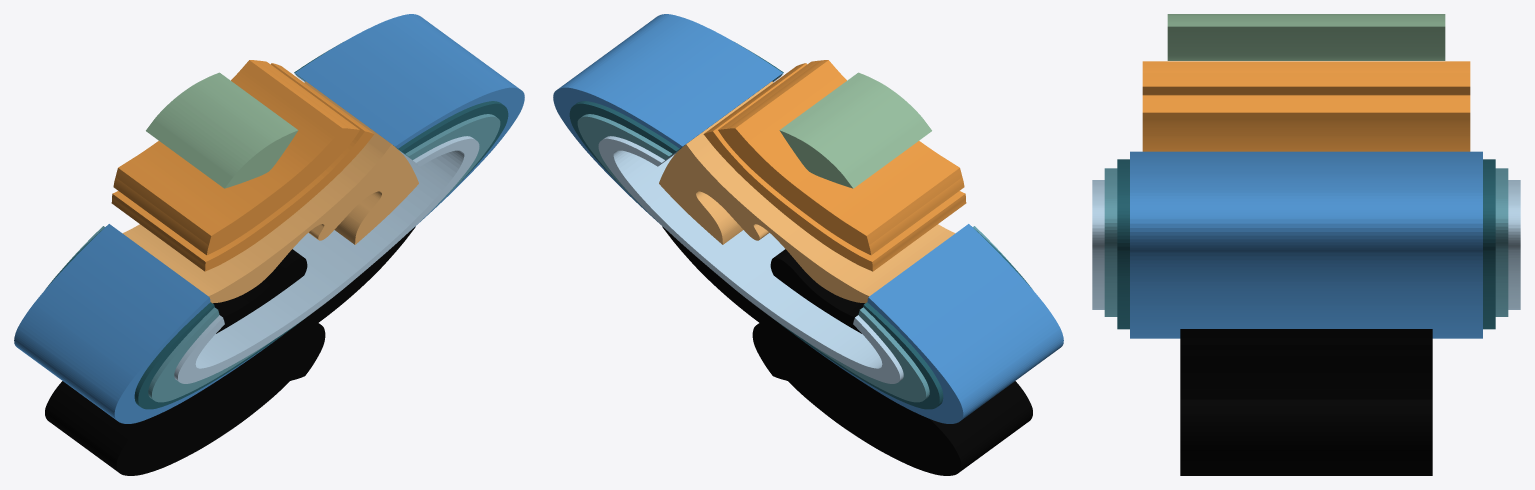
The picture shows the model from 3 angles, left to right: view 1: azimuth 30°, elevation 25°; view 2: azimuth 150°, elevation 25°; view 3: azimuth 270°, elevation 25°; orthographic projection. The views are drawn at different scales.
Parts seen in each view (by area): view 1: U+1FA90_layer04_obj00, U+1FA90_layer03_obj01, U+1FA90_layer07_obj00, U+1FA90_layer00_obj00, U+1FA90_layer02_obj00, U+1FA90_layer01_obj00, U+1FA90_layer03_obj00, U+1FA90_layer06_obj00, U+1FA90_layer05_obj00, U+1FA90_layer00_obj03, U+1FA90_layer00_obj02, U+1FA90_layer00_obj01; view 2: U+1FA90_layer04_obj00, U+1FA90_layer03_obj01, U+1FA90_layer07_obj00, U+1FA90_layer00_obj00, U+1FA90_layer02_obj00, U+1FA90_layer01_obj00, U+1FA90_layer03_obj00, U+1FA90_layer06_obj00, U+1FA90_layer05_obj00, U+1FA90_layer00_obj03, U+1FA90_layer00_obj02, U+1FA90_layer00_obj01; view 3: U+1FA90_layer04_obj00, U+1FA90_layer00_obj03, U+1FA90_layer03_obj00, U+1FA90_layer00_obj01, U+1FA90_layer01_obj00, U+1FA90_layer03_obj01, U+1FA90_layer05_obj00, U+1FA90_layer06_obj00, U+1FA90_layer07_obj00.
Part boxes in pixels (bbox=[...]): U+1FA90_layer04_obj00: bbox=[14, 14, 524, 423]; U+1FA90_layer03_obj01: bbox=[113, 60, 359, 255]; U+1FA90_layer07_obj00: bbox=[174, 73, 479, 383]; U+1FA90_layer00_obj00: bbox=[45, 326, 320, 475]; U+1FA90_layer02_obj00: bbox=[122, 81, 418, 303]; U+1FA90_layer01_obj00: bbox=[146, 72, 298, 188]; U+1FA90_layer03_obj00: bbox=[111, 63, 374, 271]; U+1FA90_layer06_obj00: bbox=[64, 72, 500, 402]; U+1FA90_layer05_obj00: bbox=[45, 42, 508, 409]; U+1FA90_layer00_obj03: bbox=[198, 322, 325, 393]; U+1FA90_layer00_obj02: bbox=[213, 249, 307, 333]; U+1FA90_layer00_obj01: bbox=[254, 226, 415, 357]; U+1FA90_layer04_obj00: bbox=[553, 14, 1063, 423]; U+1FA90_layer03_obj01: bbox=[718, 60, 964, 255]; U+1FA90_layer07_obj00: bbox=[598, 73, 903, 383]; U+1FA90_layer00_obj00: bbox=[757, 325, 1032, 475]; U+1FA90_layer02_obj00: bbox=[659, 81, 955, 303]; U+1FA90_layer01_obj00: bbox=[779, 72, 931, 188]; U+1FA90_layer03_obj00: bbox=[703, 63, 966, 271]; U+1FA90_layer06_obj00: bbox=[577, 72, 1013, 402]; U+1FA90_layer05_obj00: bbox=[569, 42, 1032, 409]; U+1FA90_layer00_obj03: bbox=[752, 322, 879, 393]; U+1FA90_layer00_obj02: bbox=[770, 249, 864, 333]; U+1FA90_layer00_obj01: bbox=[662, 226, 823, 357]; U+1FA90_layer04_obj00: bbox=[1130, 151, 1482, 338]; U+1FA90_layer00_obj03: bbox=[1180, 399, 1432, 475]; U+1FA90_layer03_obj00: bbox=[1142, 95, 1470, 151]; U+1FA90_layer00_obj01: bbox=[1180, 329, 1432, 399]; U+1FA90_layer01_obj00: bbox=[1167, 14, 1445, 60]; U+1FA90_layer03_obj01: bbox=[1142, 61, 1470, 95]; U+1FA90_layer05_obj00: bbox=[1117, 159, 1495, 329]; U+1FA90_layer06_obj00: bbox=[1104, 168, 1508, 316]; U+1FA90_layer07_obj00: bbox=[1092, 180, 1520, 309].
Bounding box in the file's own units: 0.3299 × 0.2395 × 0.17.
